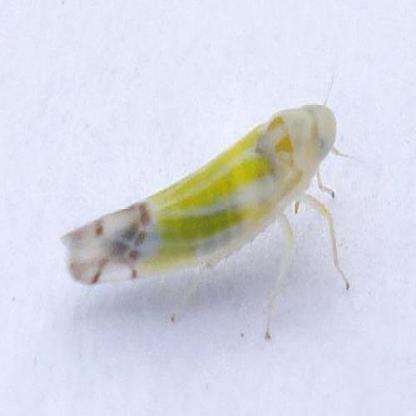green-leafhopper: (59, 104, 362, 342)
